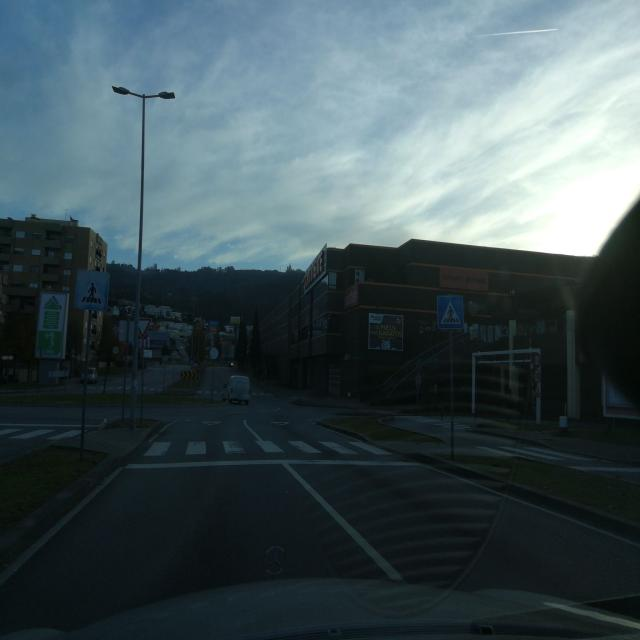car: (222, 374, 251, 405), (79, 367, 99, 385)
